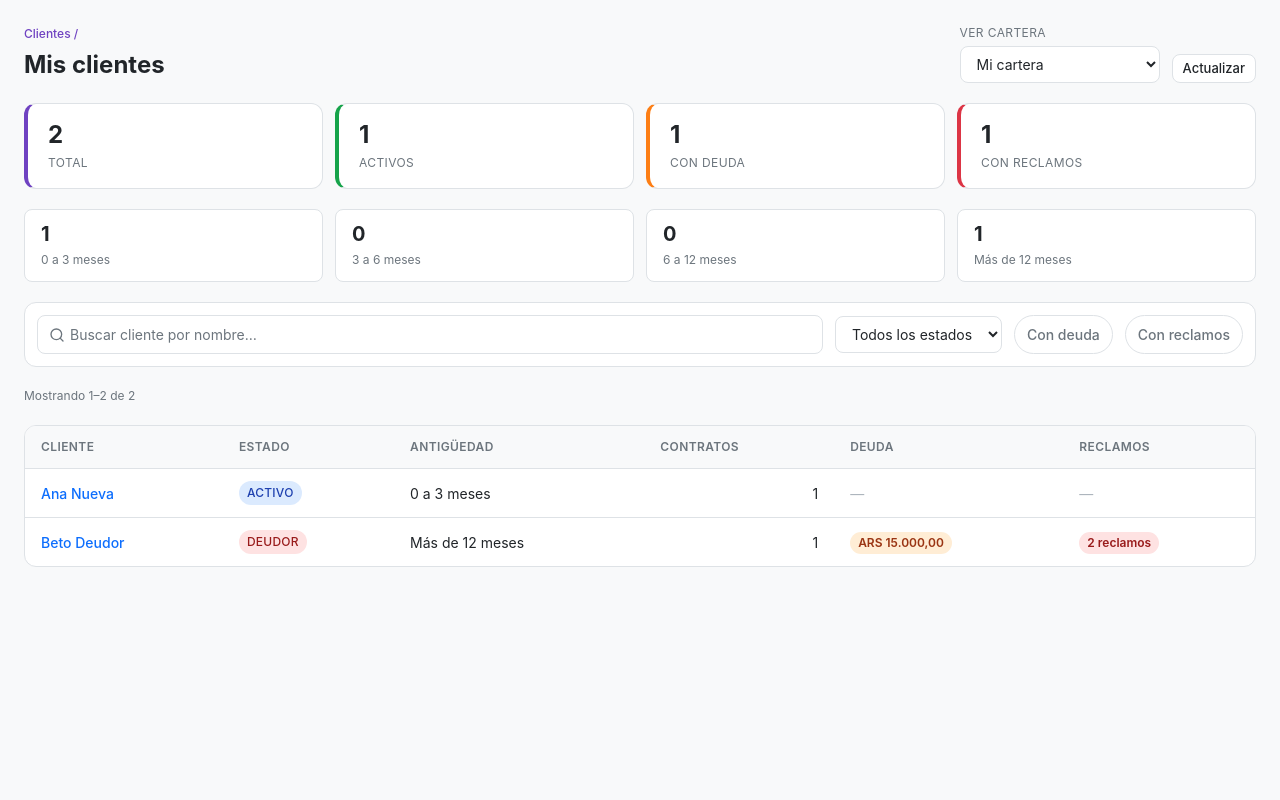
MisClientesPage › "Todos los agentes" consumes the all-portfolios hook and shows the Agente column
The image size is (1280, 800).
Select "Todos los agentes" in the dropdown labelled "Ver cartera" at x=1060, y=64, box [960, 46, 1160, 83]
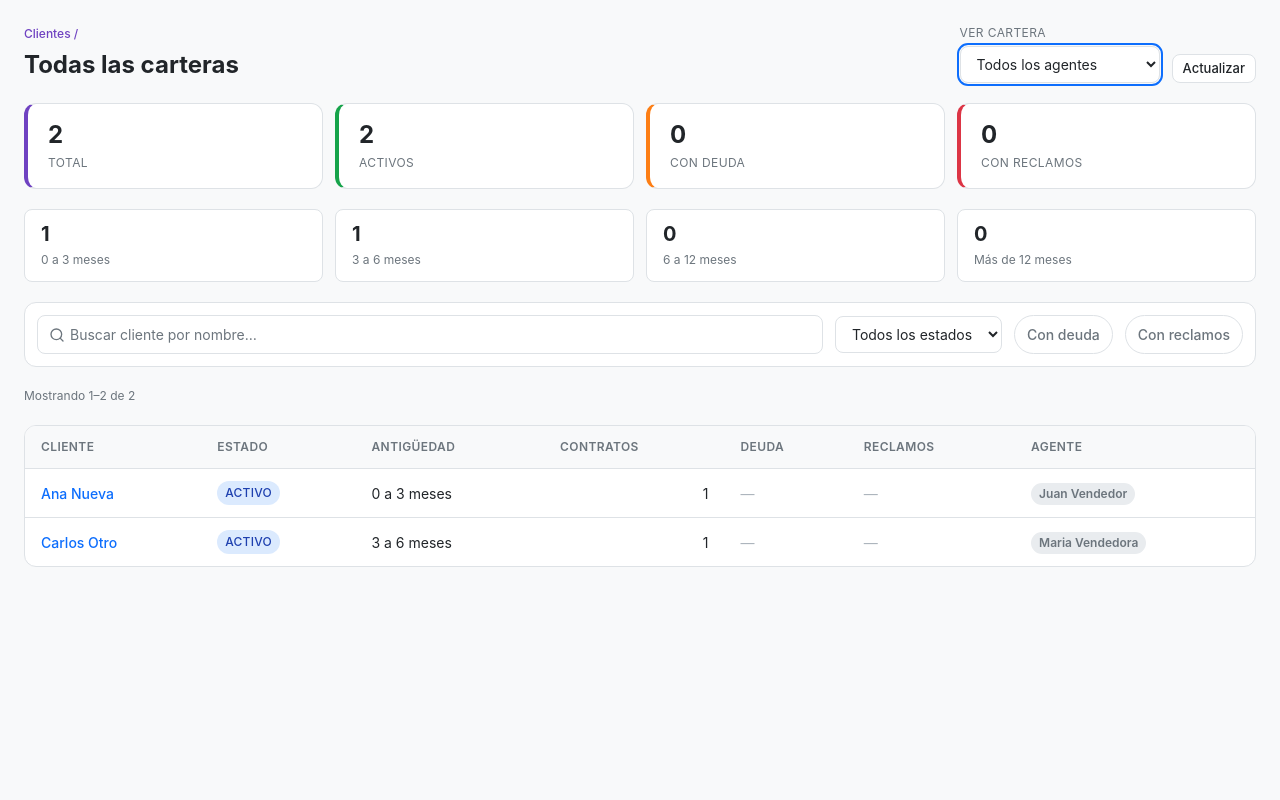
Now the heading "Todas las carteras" is shown, box [24, 47, 239, 83]
Now the link "Carlos Otro" is shown, box [41, 534, 117, 550]
Now the text named "Agente: Juan Vendedor" is shown, box [1031, 482, 1135, 504]
